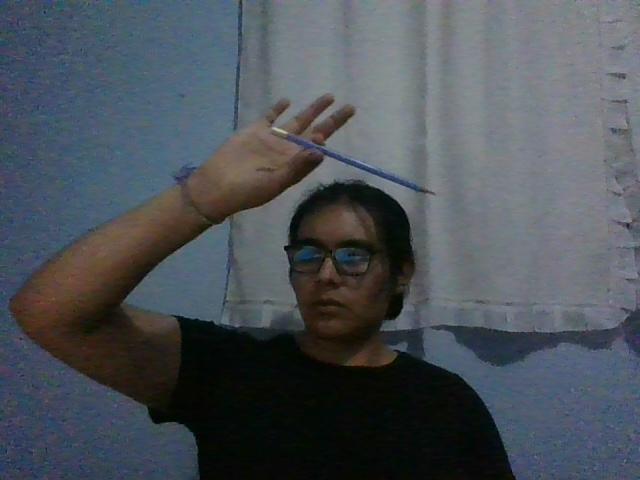lapiz: (270, 127, 437, 196)
